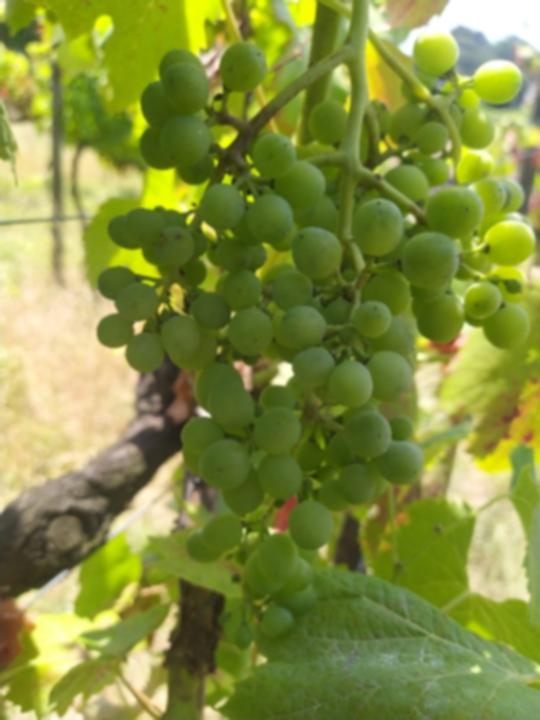grape: (97, 27, 534, 658)
